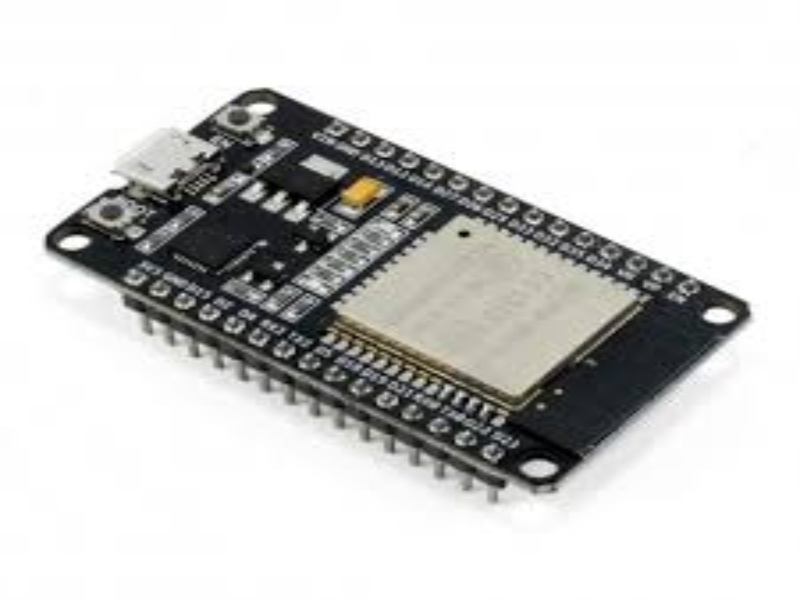esp32: (39, 84, 756, 494)
